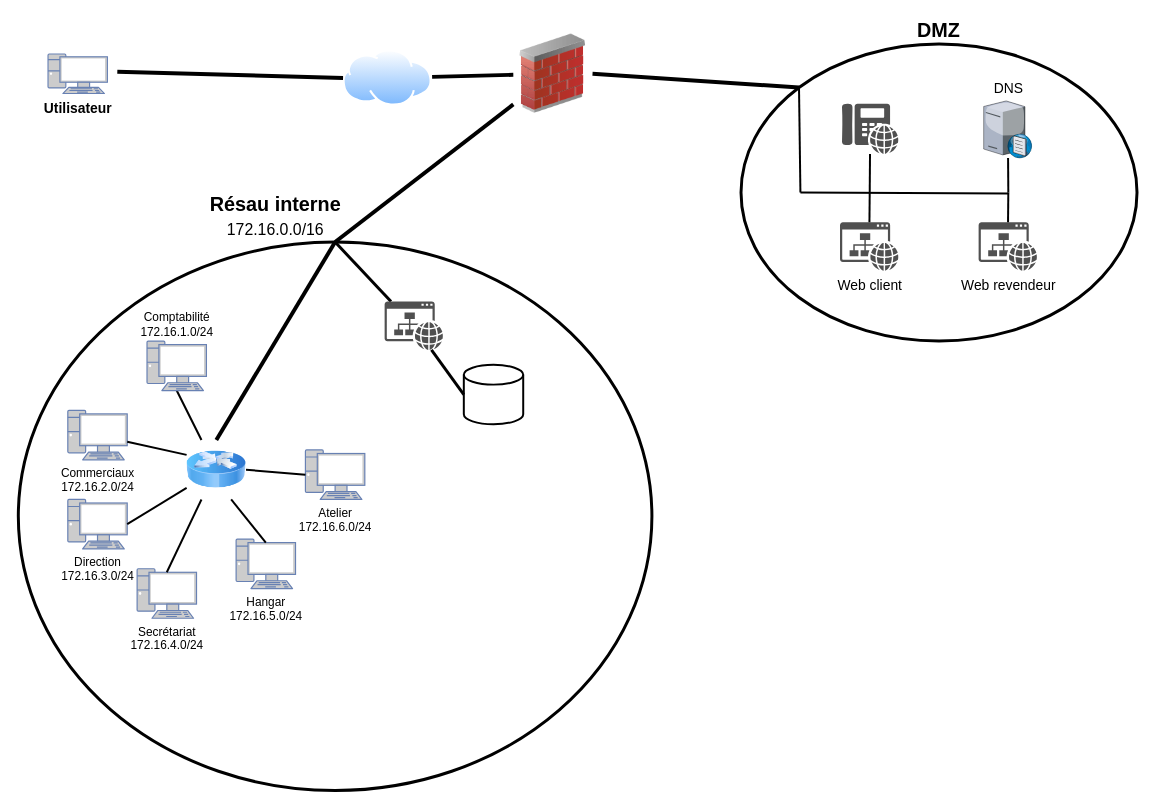
Some shapes in this 1155 by 809 pixel diagram are drawn without their labels. Here are the shapes that lost their labels. From the top down, the centre of each, then its label:
At pixel 387 77: "INTERNET".
At pixel 552 73: "Pare-feu".
At pixel 870 128: "VoIP".
At pixel 413 325: "ERP 172.16.0.0/32".
At pixel 493 394: "MySQL".
